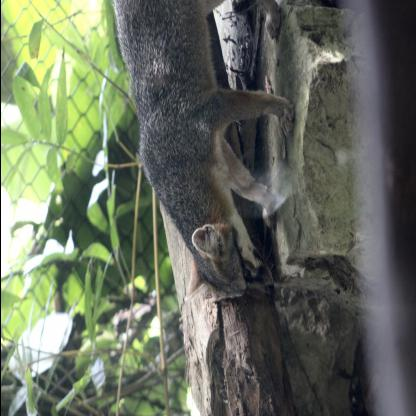zorro: (86, 0, 304, 318)
